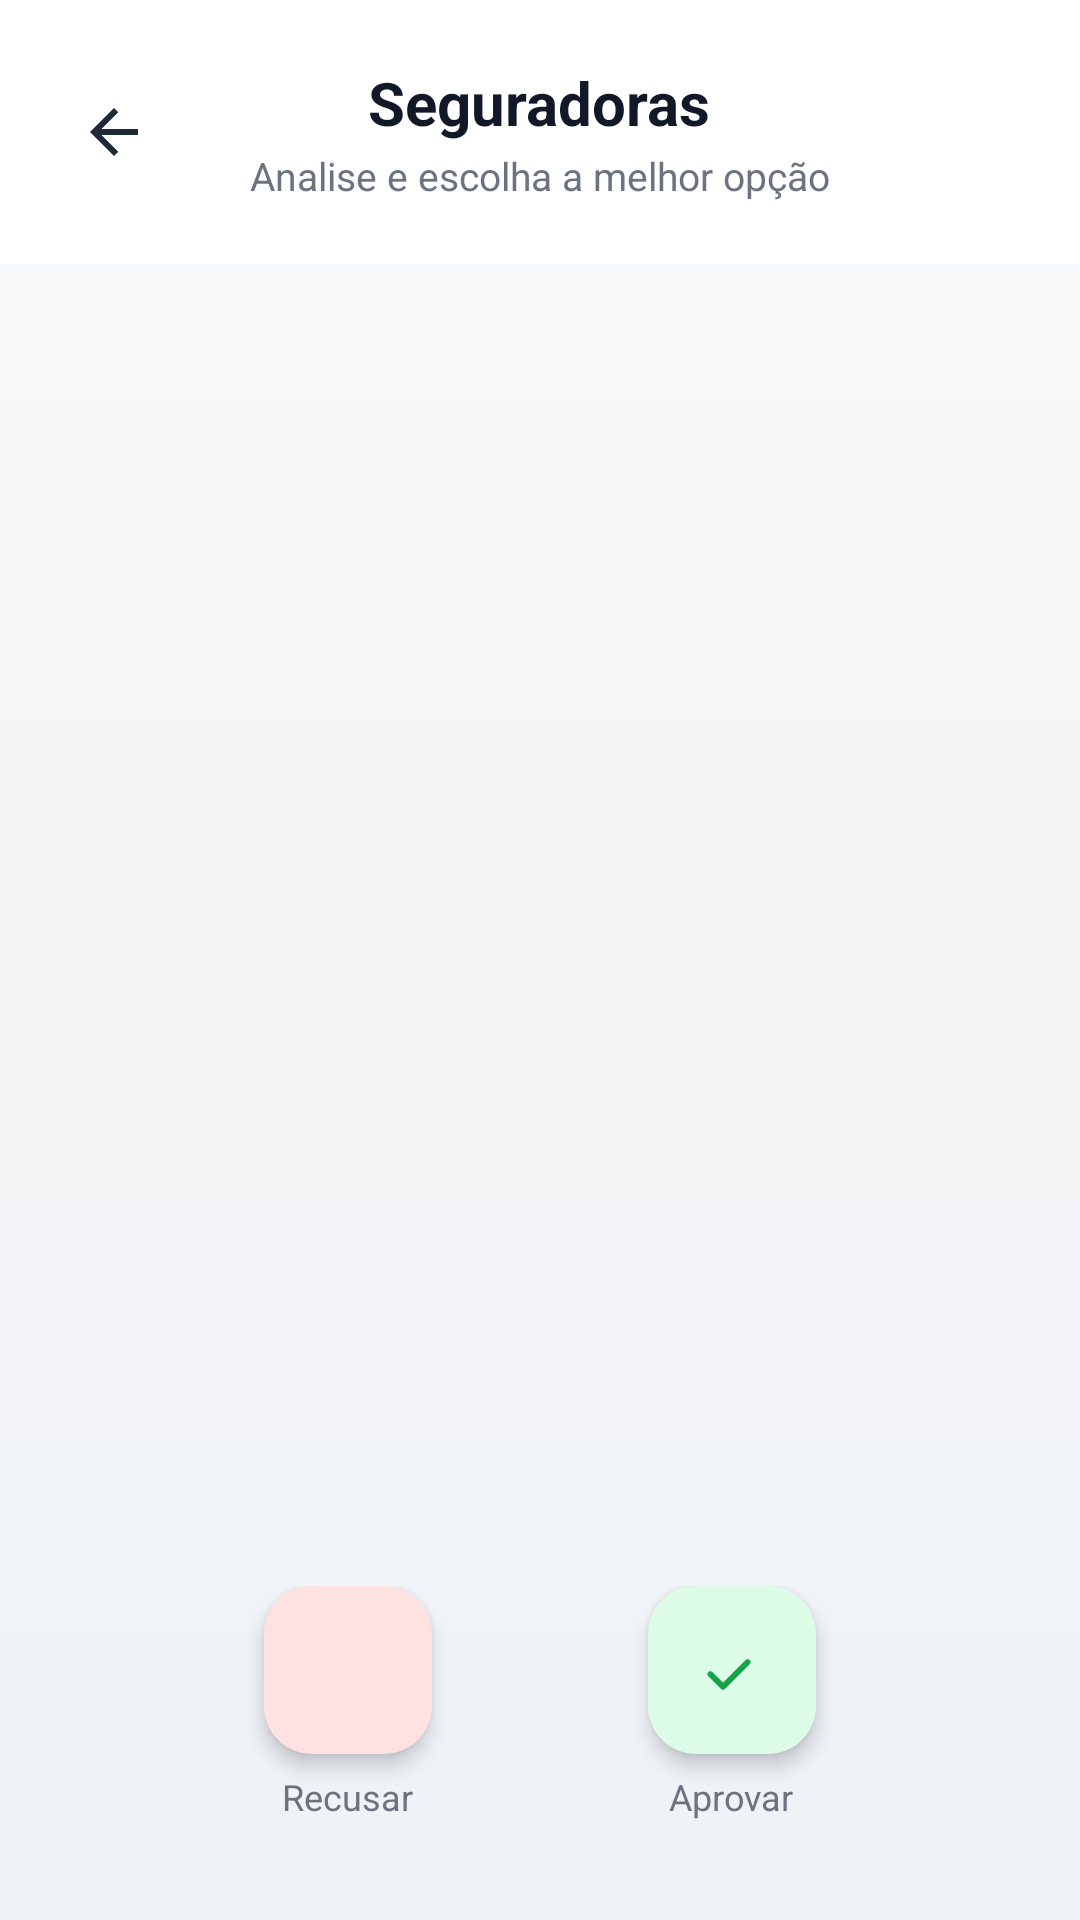

Icon bounding boxes for this 1080*1920 phone screenshot, format (x1,y1,x2,y2):
Voltar: (90,108,138,156)
